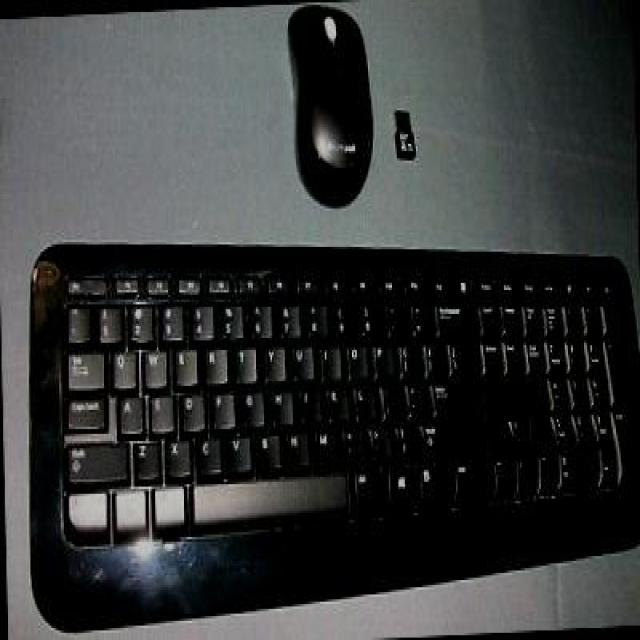keyboard: (30, 243, 631, 632)
mouse: (290, 5, 373, 209)
